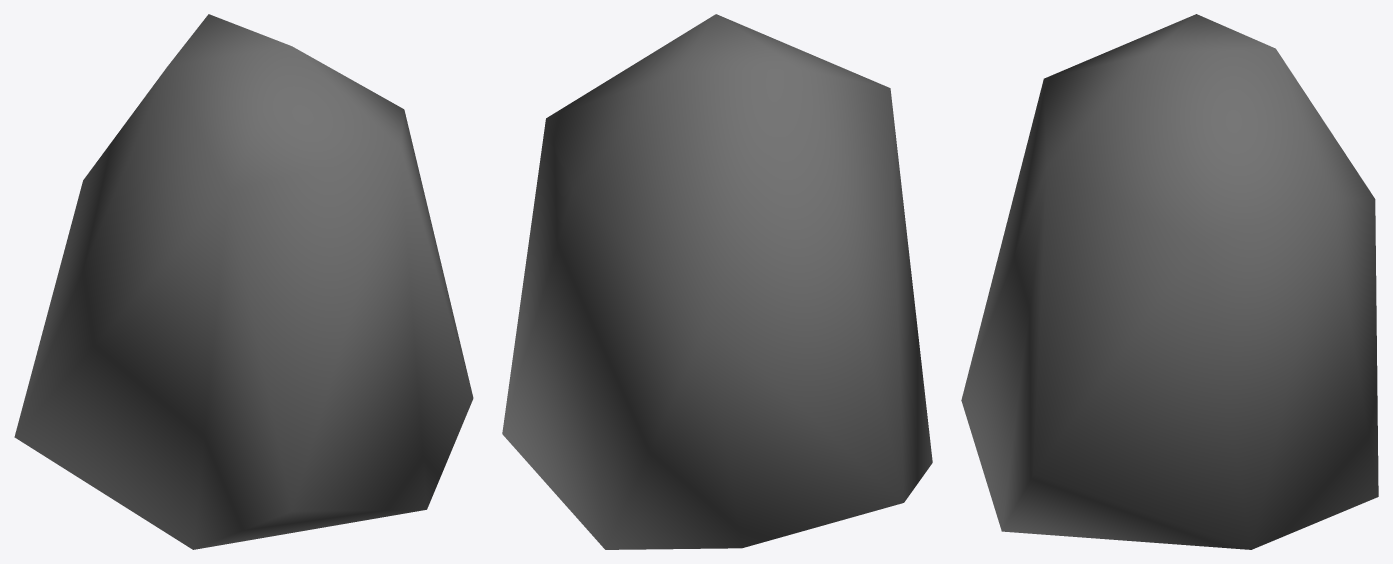
File: Rock_04.fbx
3 views of the same model, side by side, from view 1: azimuth 30°, elevation 25°; view 2: azimuth 150°, elevation 25°; view 3: azimuth 270°, elevation 25° (orthographic). The views are drawn at different scales.
Parts seen in each view (by area): view 1: Rock_04; view 2: Rock_04; view 3: Rock_04.
Part boxes in pixels (bbox=[...]): Rock_04: bbox=[14, 14, 473, 549]; Rock_04: bbox=[502, 14, 932, 549]; Rock_04: bbox=[961, 14, 1378, 549].
Size of the model in its own units: 1.05 by 1.13 by 0.9548.
